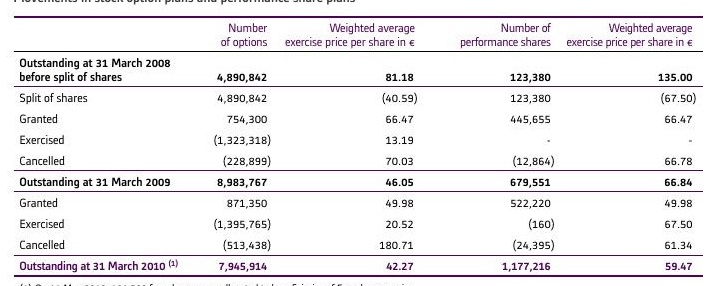table: (0, 0, 721, 286)
